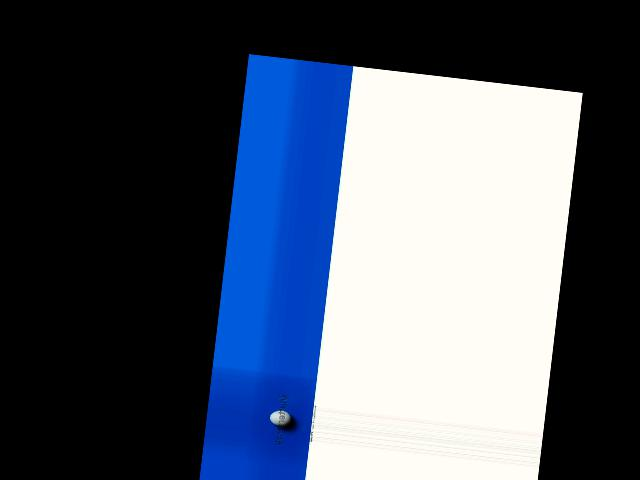egg: (268, 409, 292, 427)
